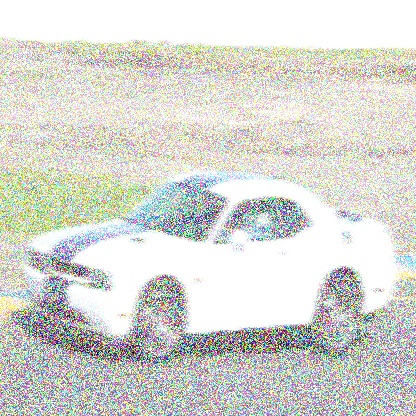Vehicle: (23, 168, 398, 365)
